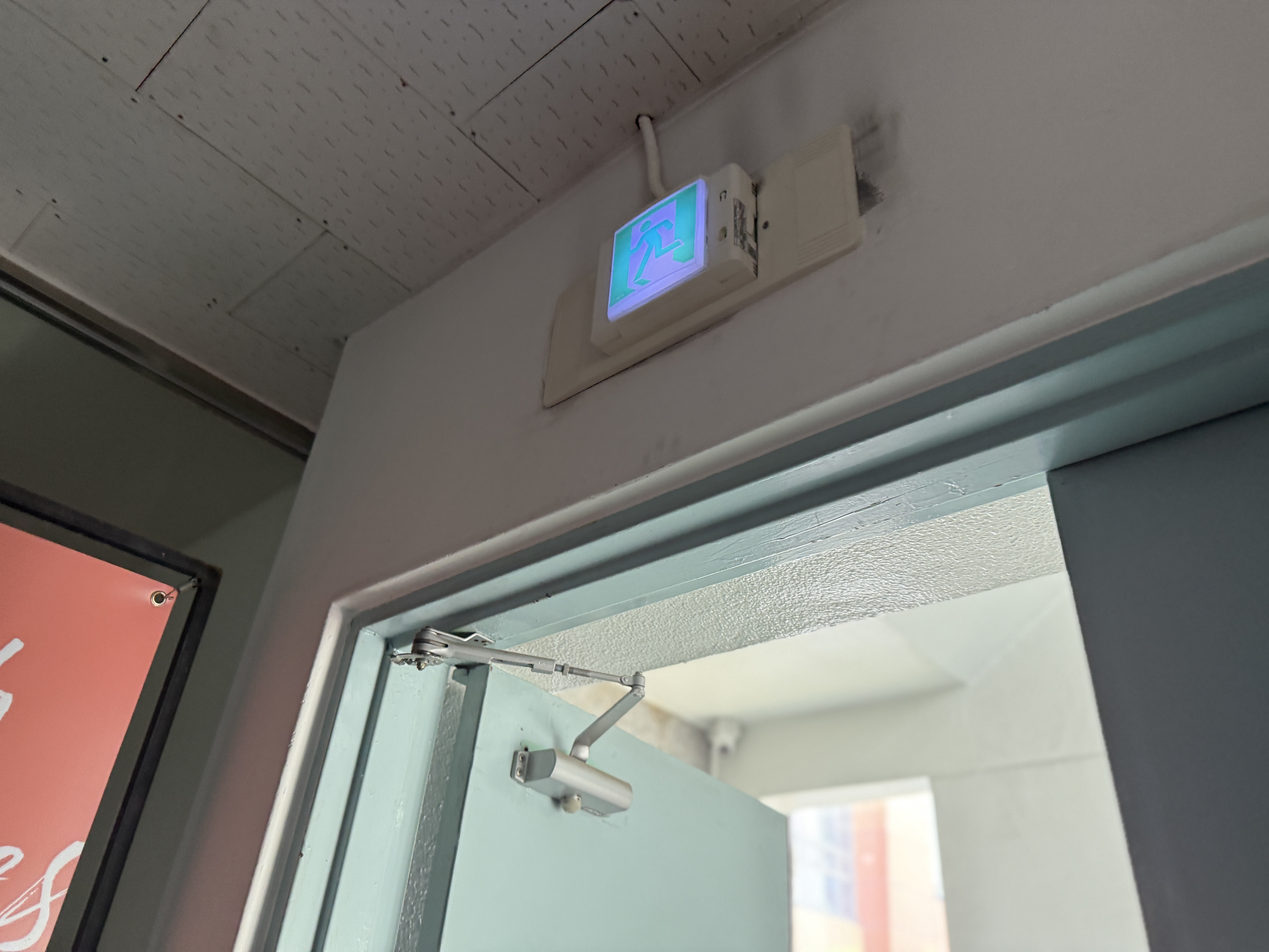emergency_exit: (538, 121, 867, 407), (1, 517, 181, 950), (603, 175, 711, 323)
